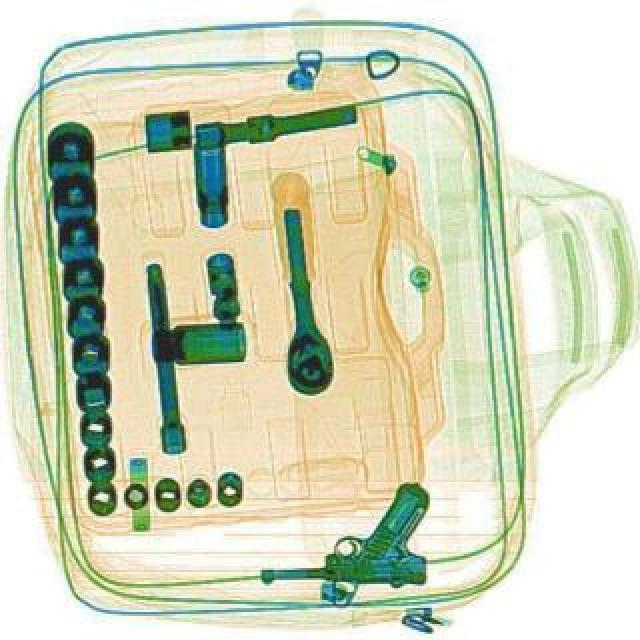gun: (258, 482, 428, 586)
